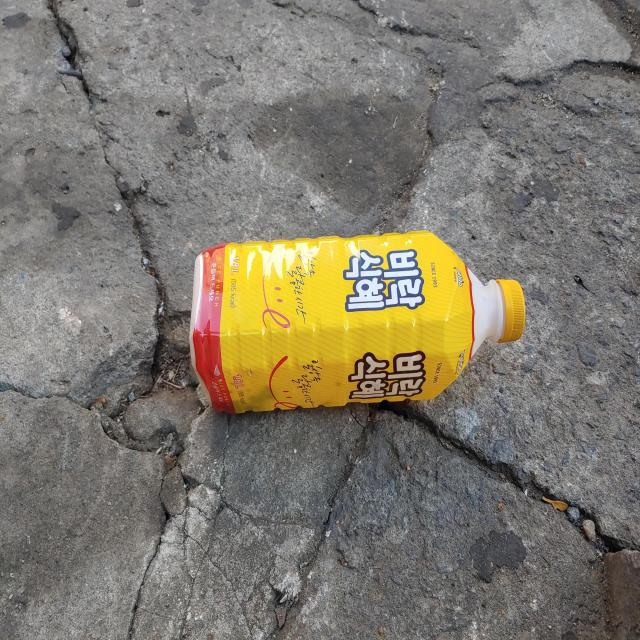plastic: (190, 231, 526, 414)
